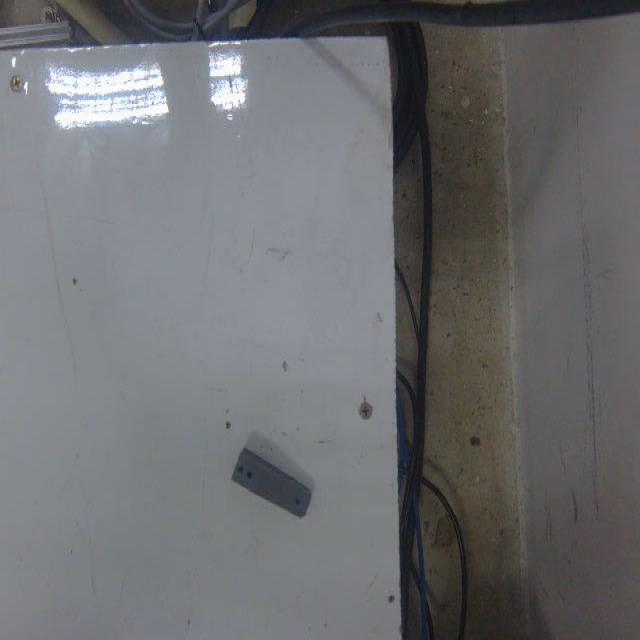grey: (230, 445, 313, 524)
head: (294, 497, 302, 506)
